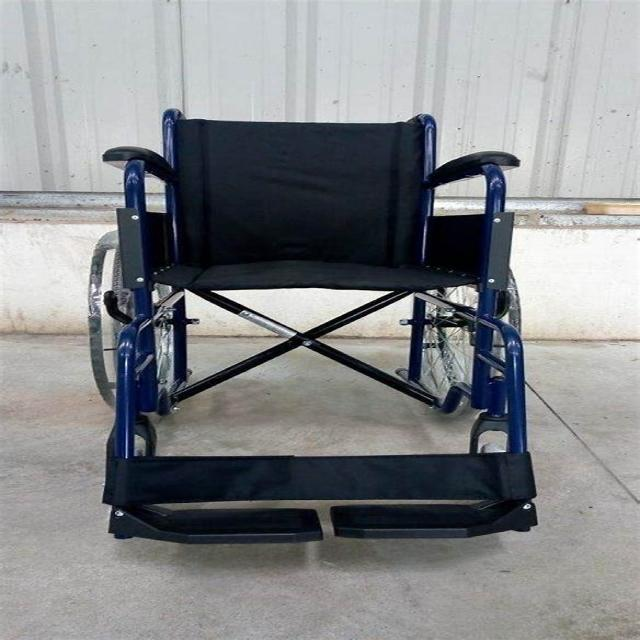wheelchairs: (73, 103, 541, 542)
